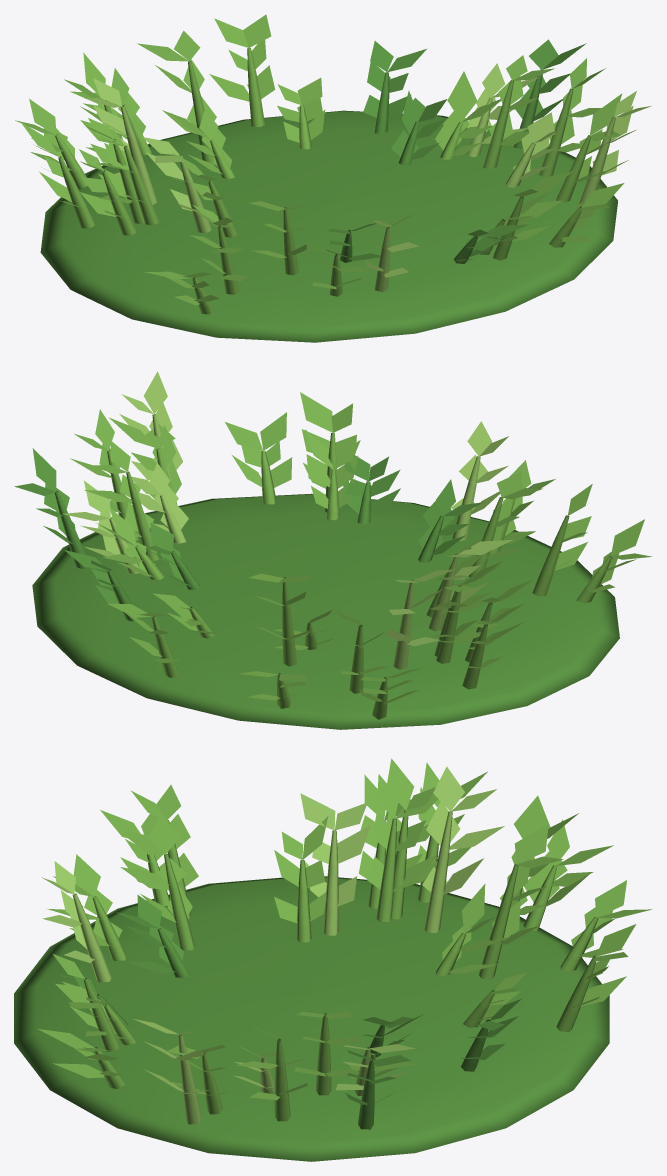
The model's file is FreshwaterMossPatch.fbx.
3 views of the same model, one above another, from view 1: azimuth 30°, elevation 25°; view 2: azimuth 150°, elevation 25°; view 3: azimuth 270°, elevation 25° (orthographic). The views are drawn at different scales.
Visible parts, largest first — view 1: FreshwaterMossPatch_Mesh; view 2: FreshwaterMossPatch_Mesh; view 3: FreshwaterMossPatch_Mesh.
Boxes of the visible parts, x1,y1,x2,y2 form: FreshwaterMossPatch_Mesh: (15,14,651,342); FreshwaterMossPatch_Mesh: (14,371,652,729); FreshwaterMossPatch_Mesh: (14,758,652,1161).
Size of the model in its own units: 0.4727 by 0.1292 by 0.4332.
